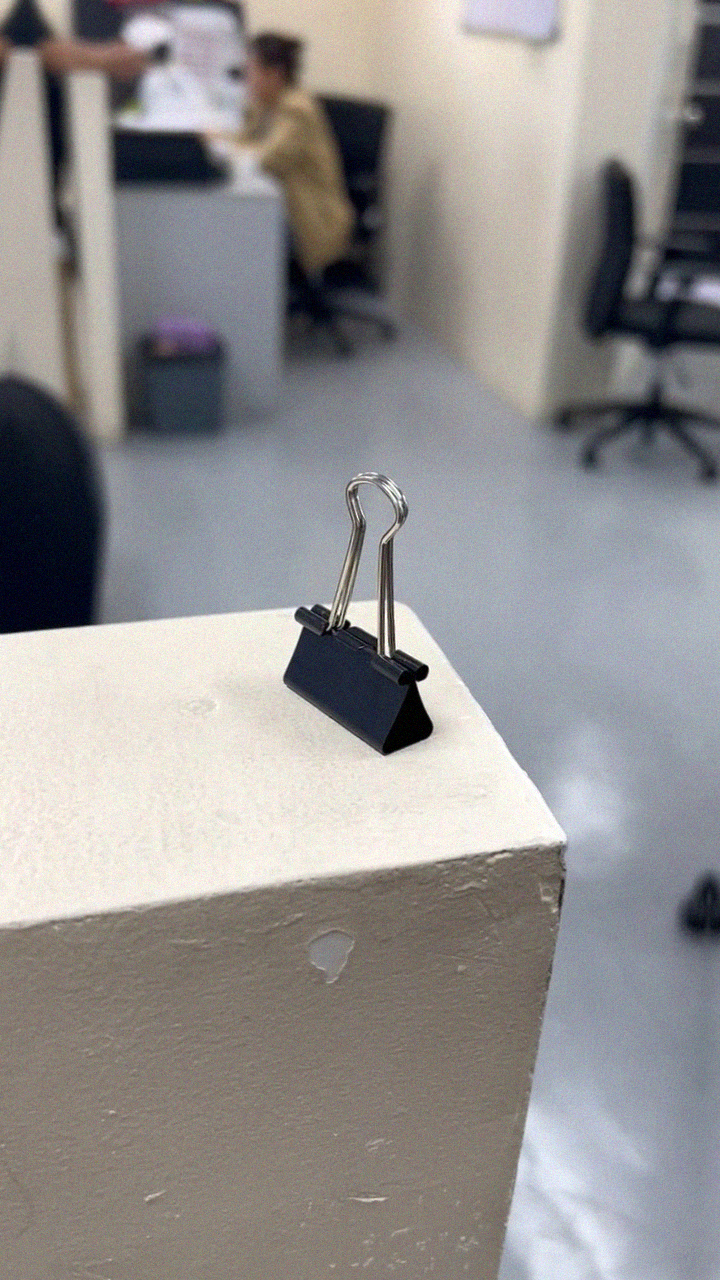kep_giay: (268, 466, 451, 762)
